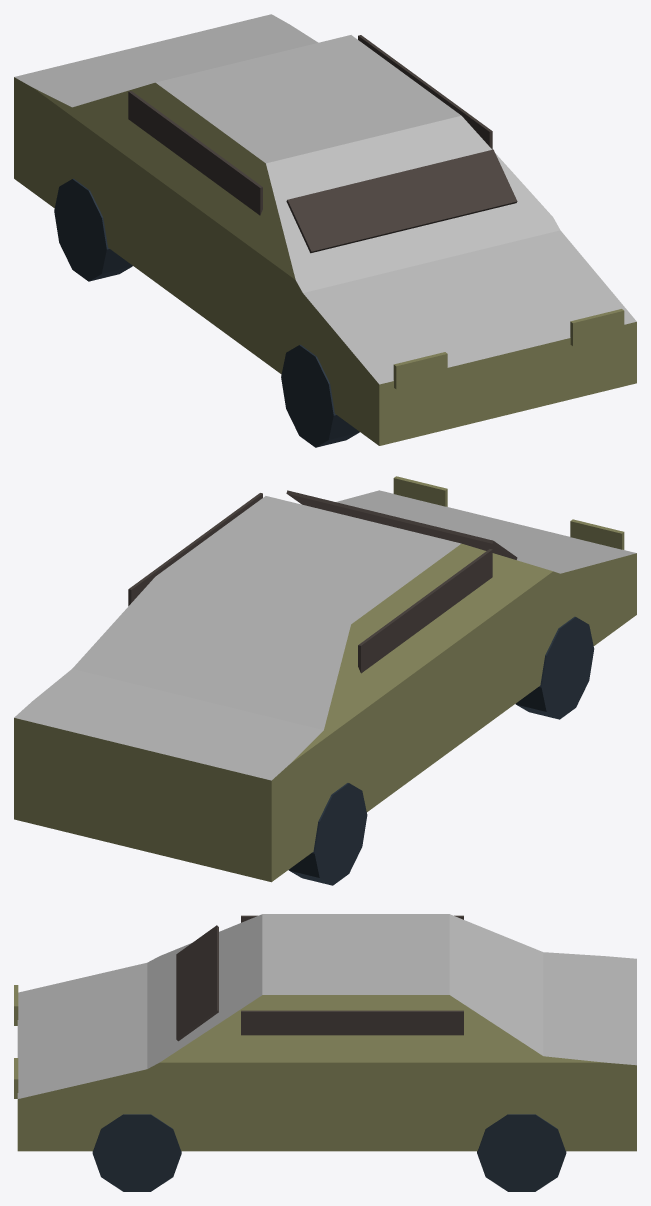
The model's file is SM_coche_2000_v2_LOD0.fbx.
3 views of the same model, one above another, from view 1: azimuth 30°, elevation 25°; view 2: azimuth 150°, elevation 25°; view 3: azimuth 270°, elevation 25° (orthographic). The views are drawn at different scales.
Visible parts, largest first — view 1: SM_bloques.coche_2000_v2_LOD0; view 2: SM_bloques.coche_2000_v2_LOD0; view 3: SM_bloques.coche_2000_v2_LOD0.
Part boxes in pixels (x1,y1,x2,y2): SM_bloques.coche_2000_v2_LOD0: (14, 14, 636, 447); SM_bloques.coche_2000_v2_LOD0: (14, 476, 636, 885); SM_bloques.coche_2000_v2_LOD0: (14, 914, 636, 1191).
Bounding box in the file's own units: 1.77 × 1.4 × 4.33.
